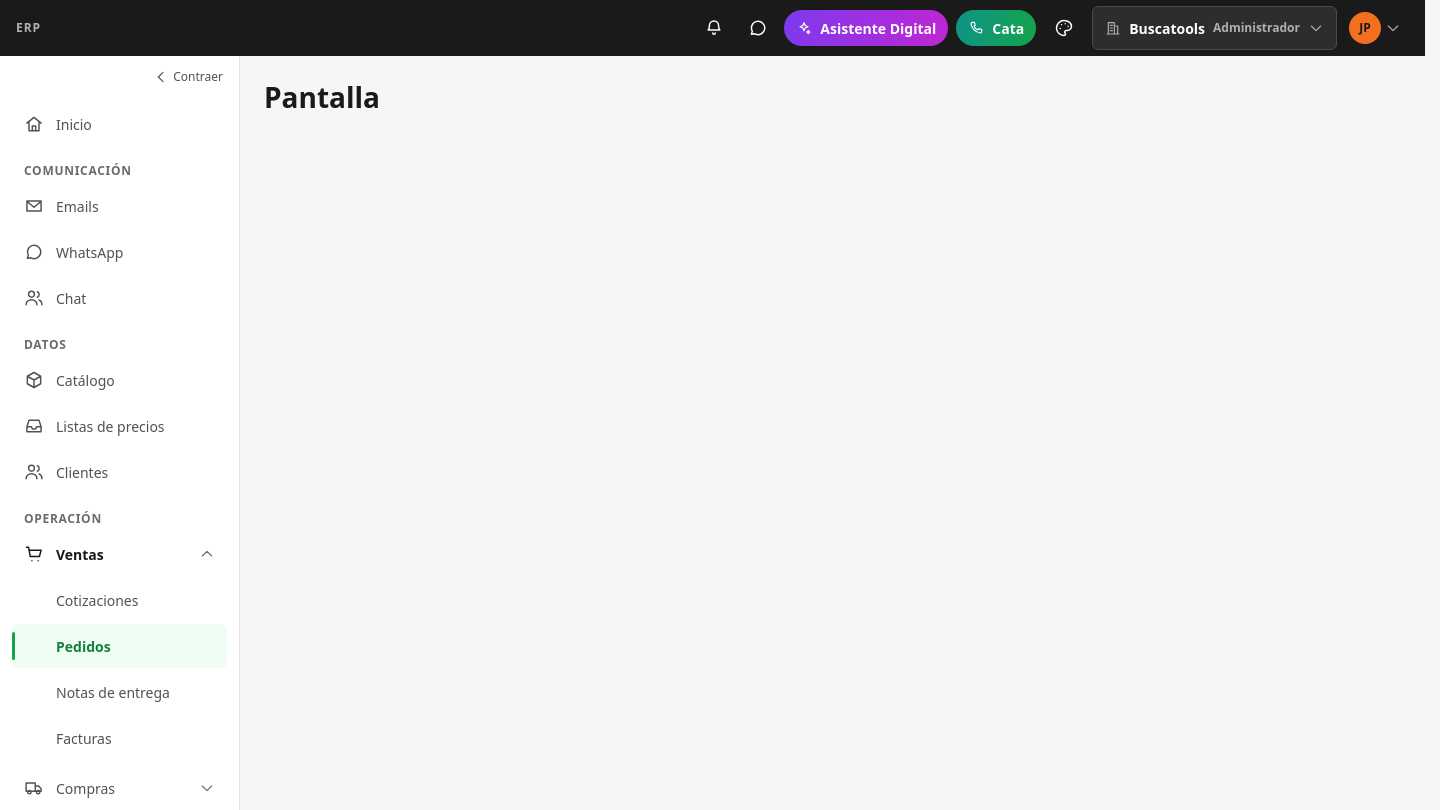
it: sidebar desktop (≥ 1024) › grupos con título y el módulo de la ruta activa desplegado
Check: the text "Operación" is shown, box [24,510,102,527]
Check: the text "Datos" is shown, box [24,336,67,353]
Click the button "Compras". click: [120, 788]
box: [12,766,227,809]
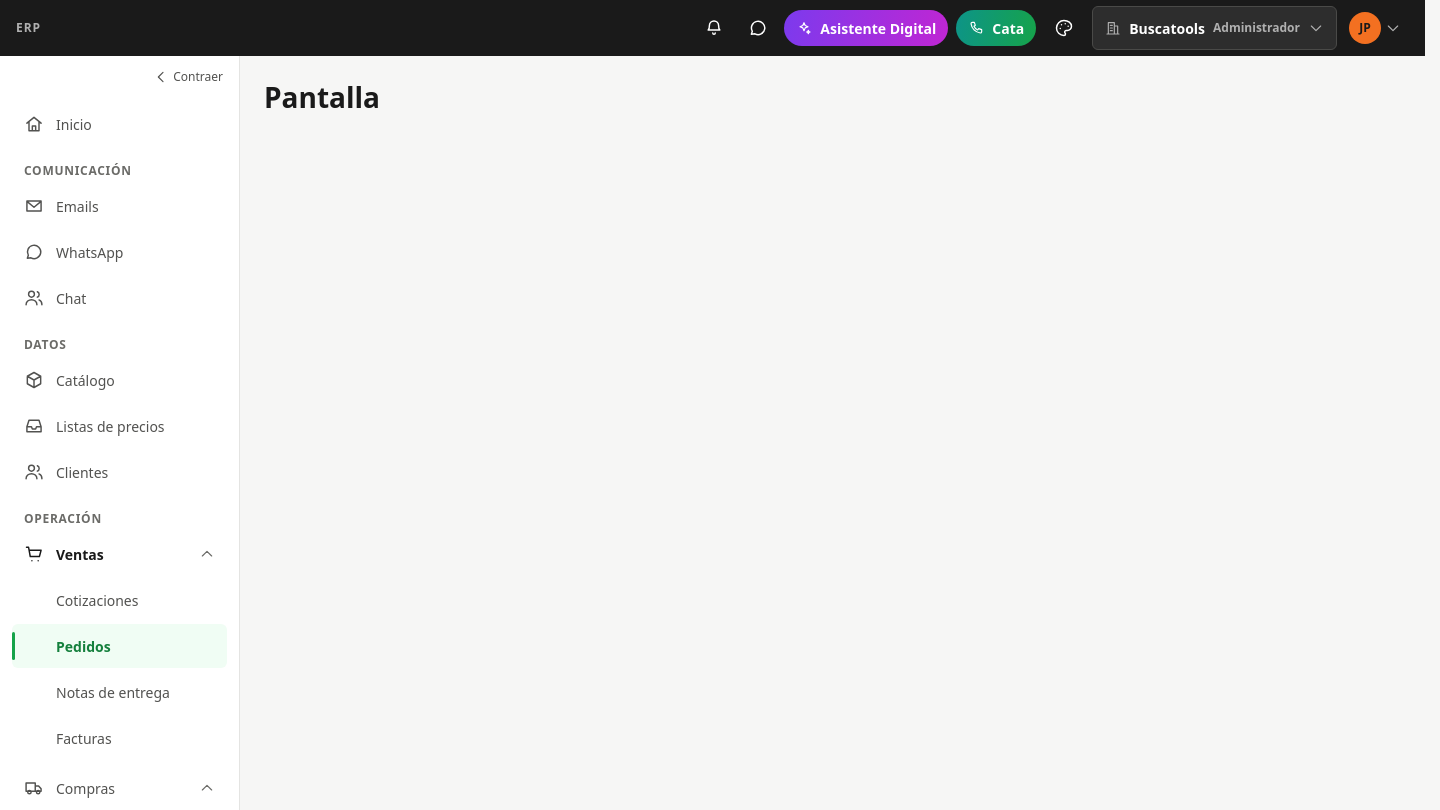
Check: the link "Facturas" is shown, box [56,728,112,748]
Check: the button "Compras" is expanded, box [12,766,227,809]
